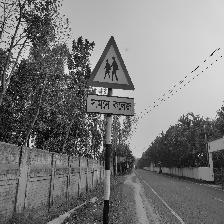College-in-front: (81, 30, 153, 128)
